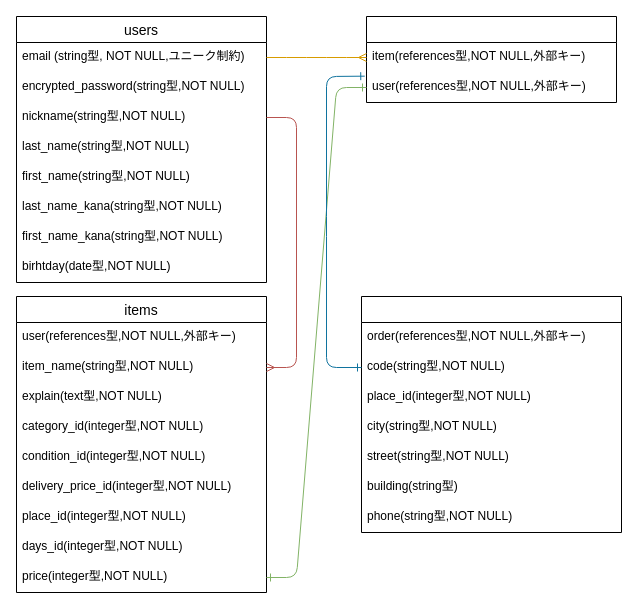
The diagram is 638 pixels wide and 609 high, and some of its shapes have lost their labels. The box of each missing label's shape, as (x1, y1, x2, y2) in pixels:
addresses: (360, 296, 622, 532)
orders: (366, 16, 616, 102)
